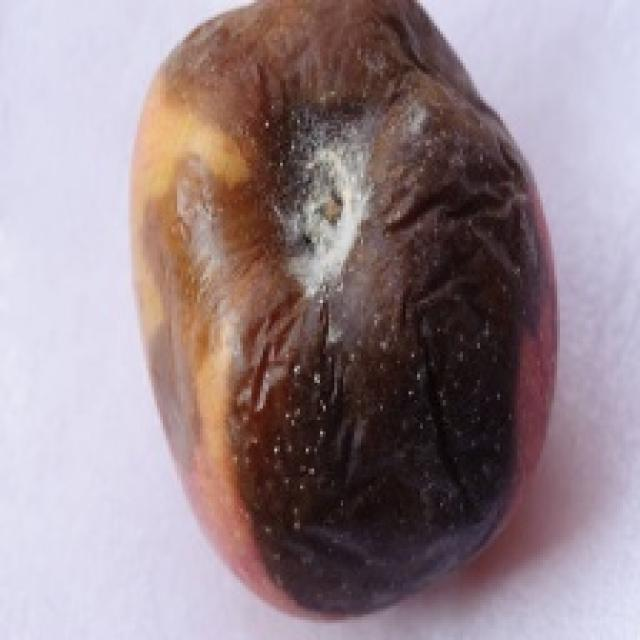rotten_apple: (137, 8, 550, 613)
